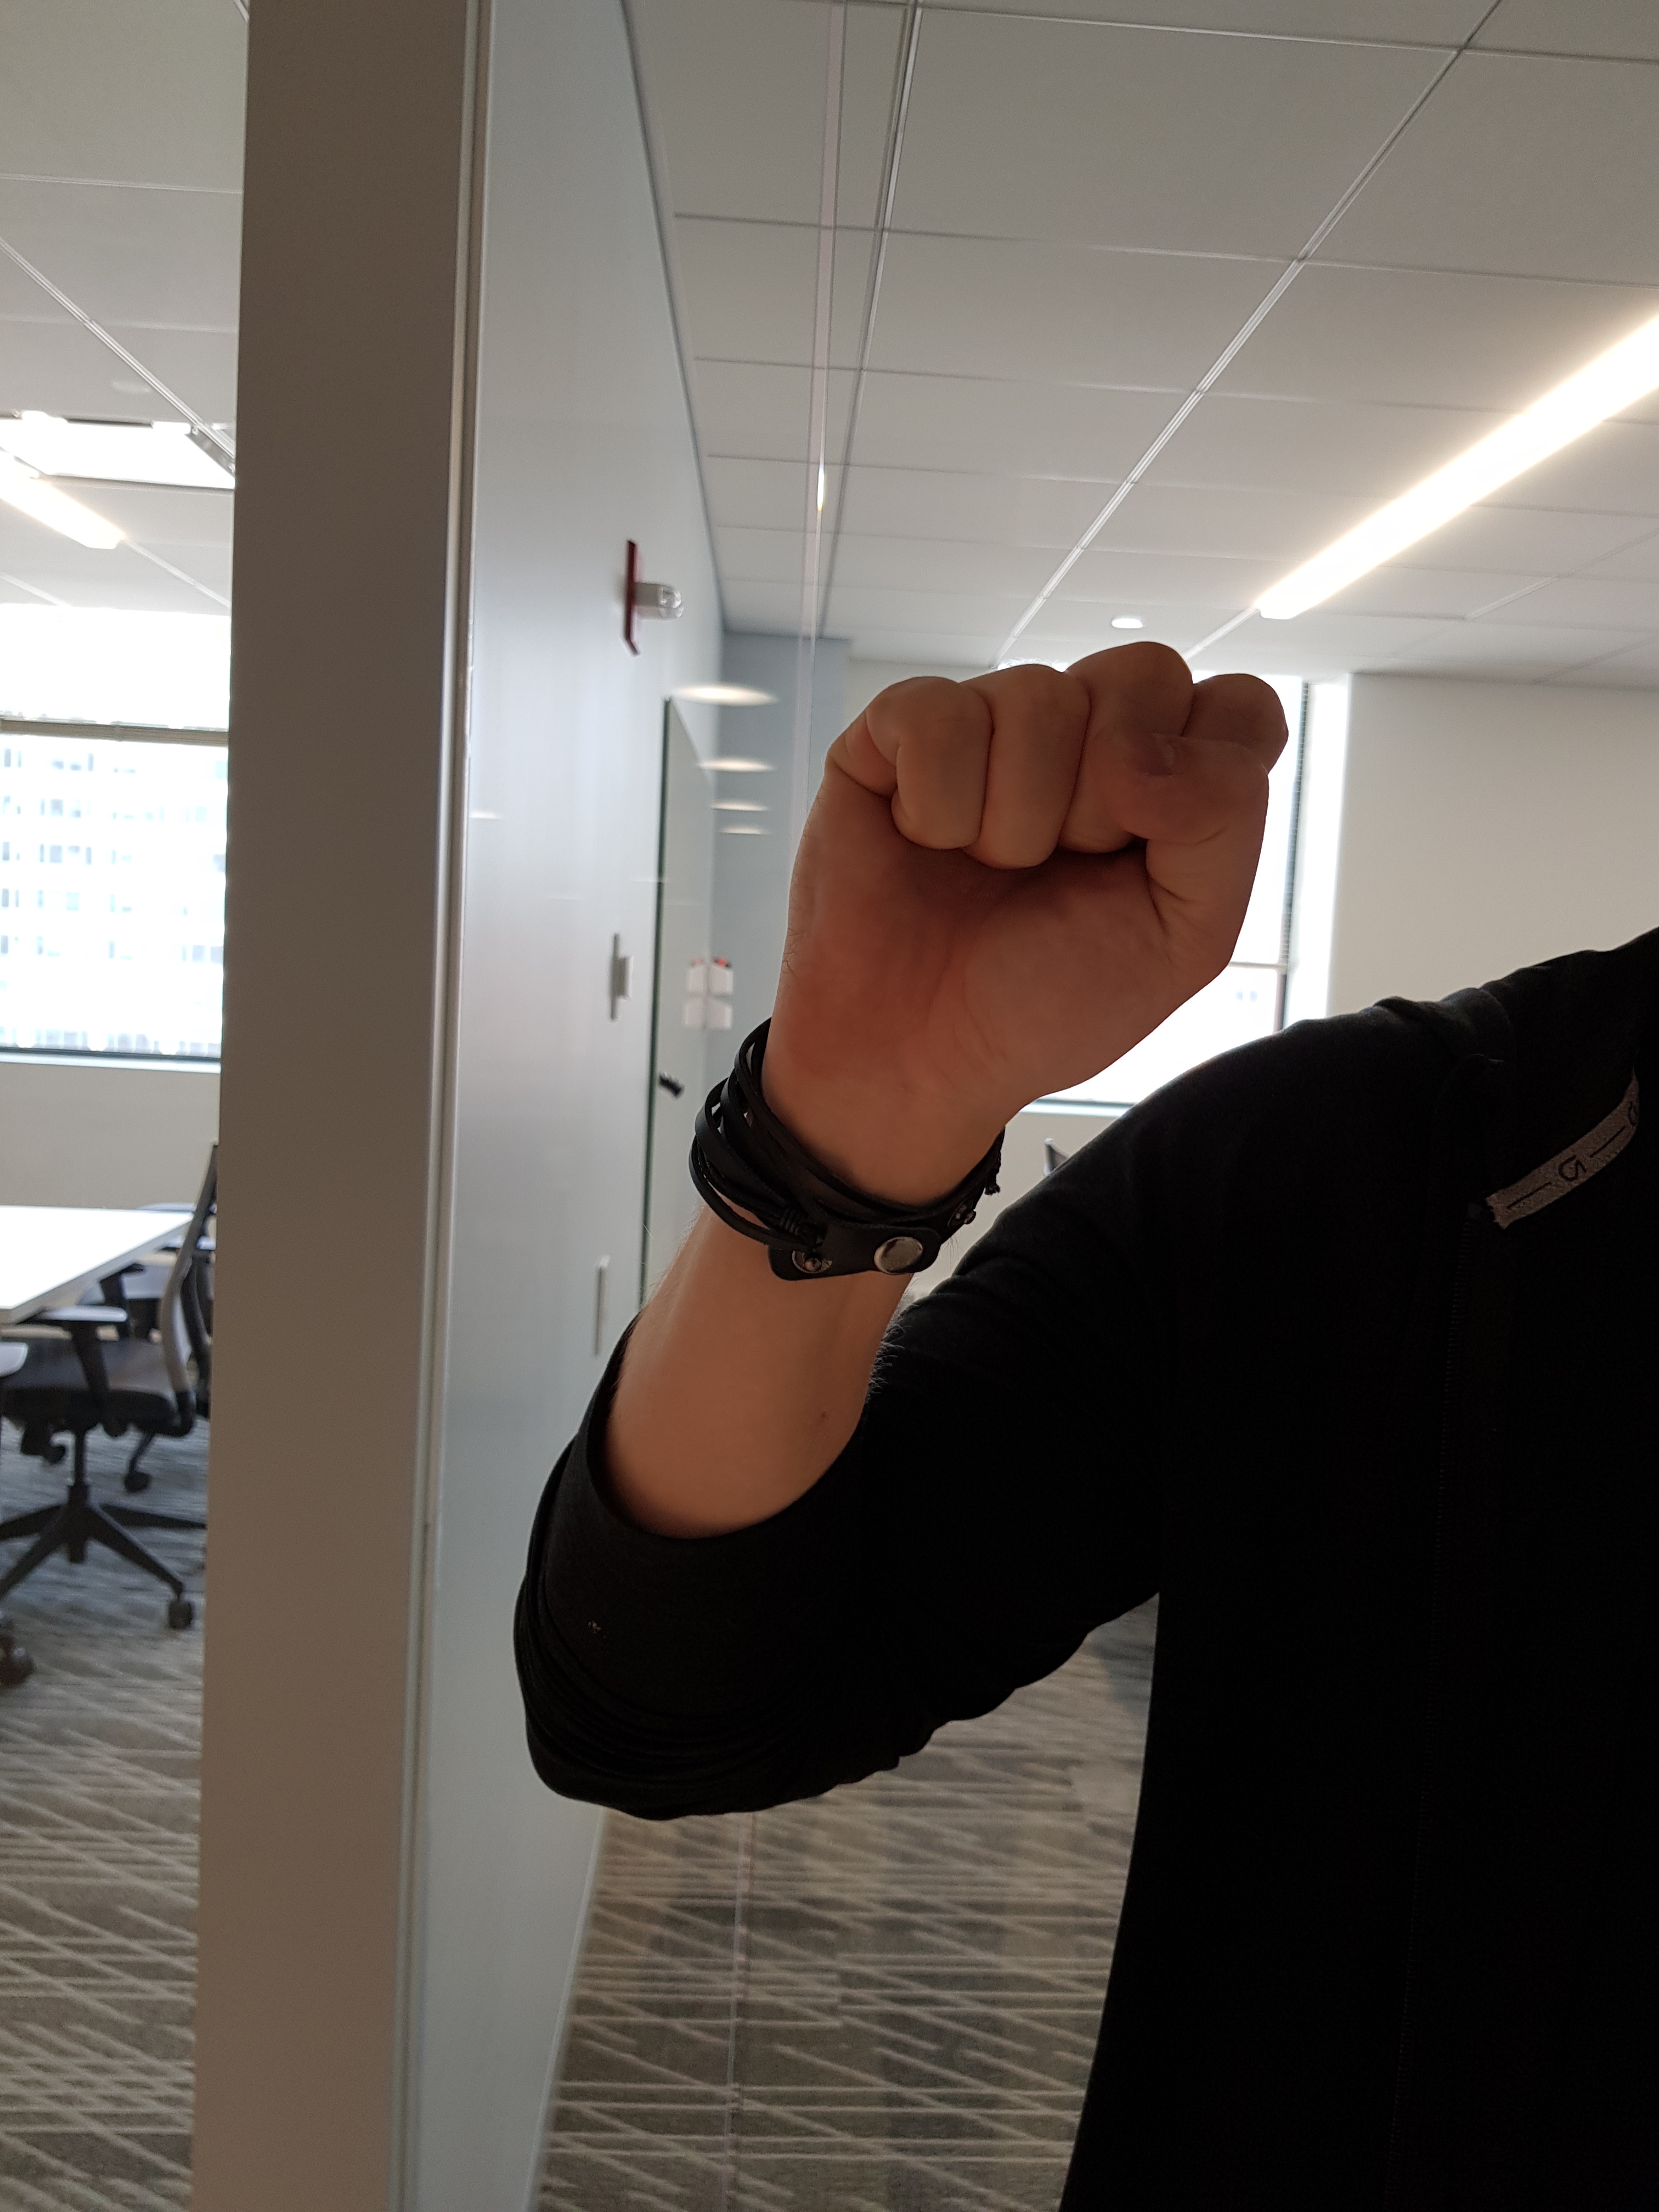s: (742, 606, 1305, 1174)
